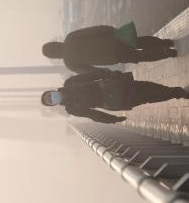person: (41, 22, 189, 78), (39, 71, 189, 125)
